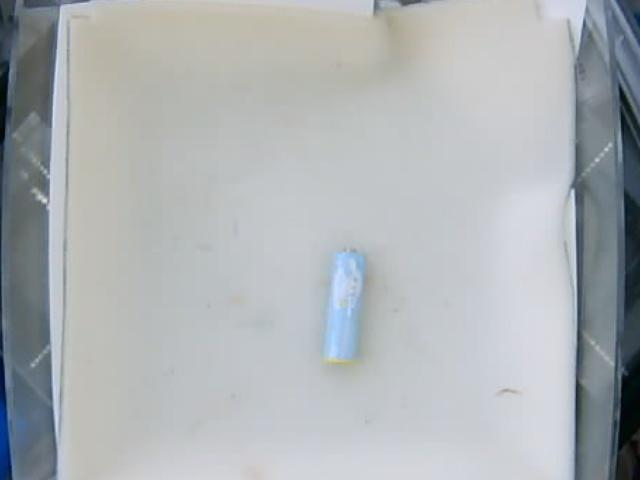Battery: (324, 248, 367, 367)
